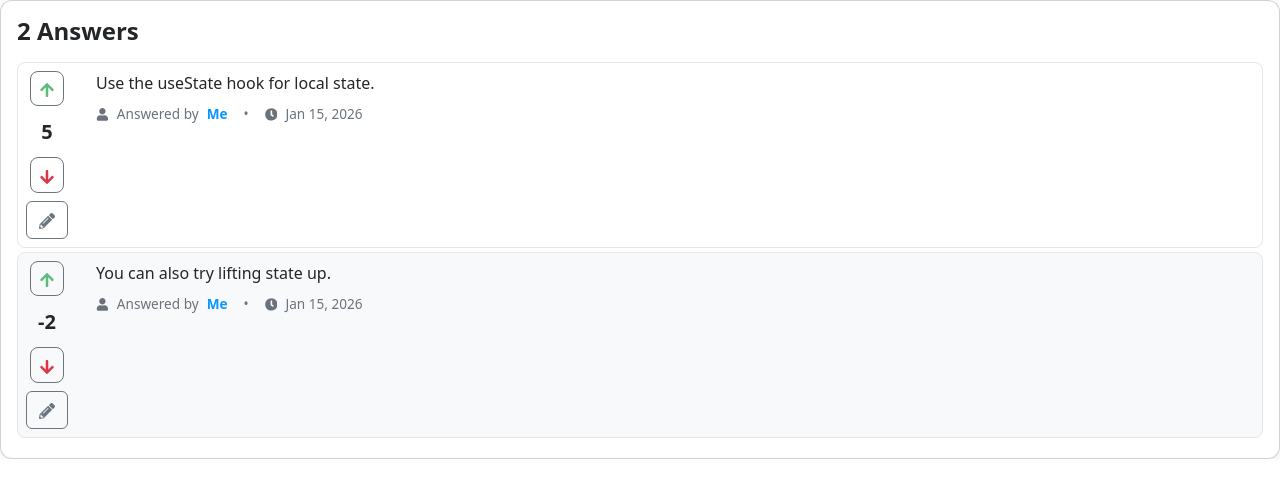
it: AnswerList Component › Edit affordance › opening a second answer's edit form closes the first
Click the button named "edit" below "Use the useState hook for local state.". click: (47, 220)
box: [26, 201, 68, 239]
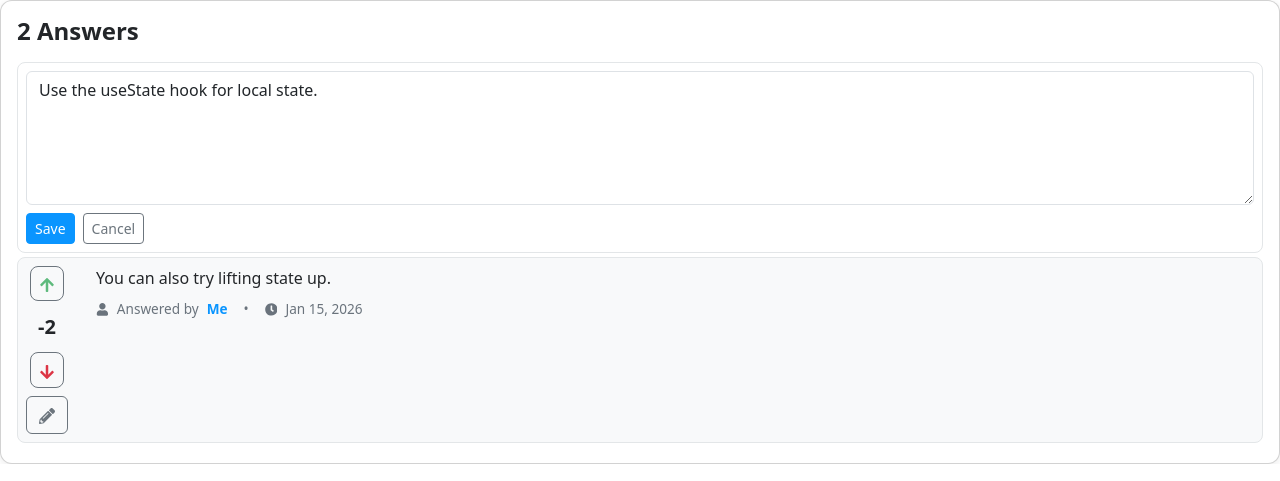
Check: the number of buttons "Cancel" is 1, box [83, 213, 144, 244]
Click the button named "edit". click: (47, 415)
box: [26, 396, 68, 434]
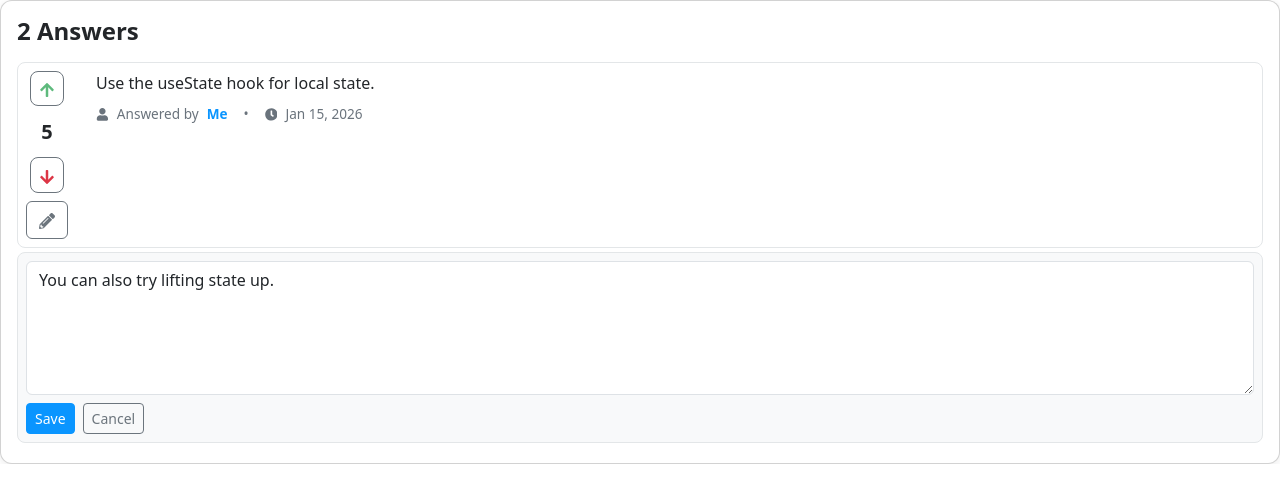
Check: the number of buttons "Cancel" is 1, box [83, 403, 144, 434]
Check: the text box holds "You can also try lifting state up.", box [26, 261, 1254, 395]
